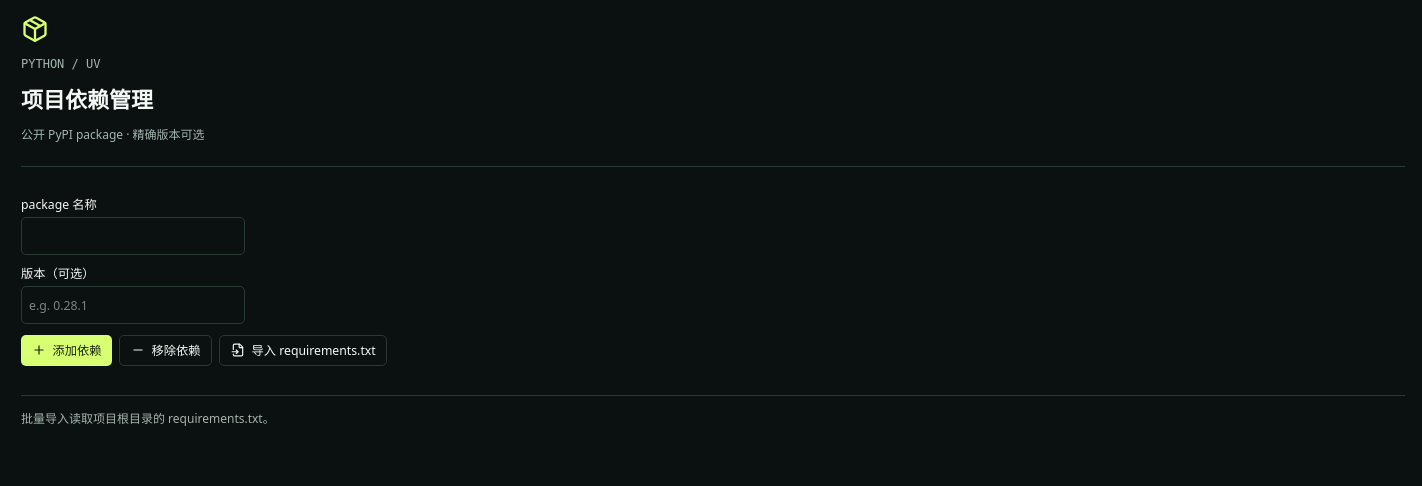
PythonDependenciesPanel rejected changes › answers PYTHON_DEPENDENCY_NO_WHEEL as a proven no-side-effect rejection with the fixed wheel message
Type "pywin32" into the field named "Package name" at [133, 236], box [21,216,245,254]
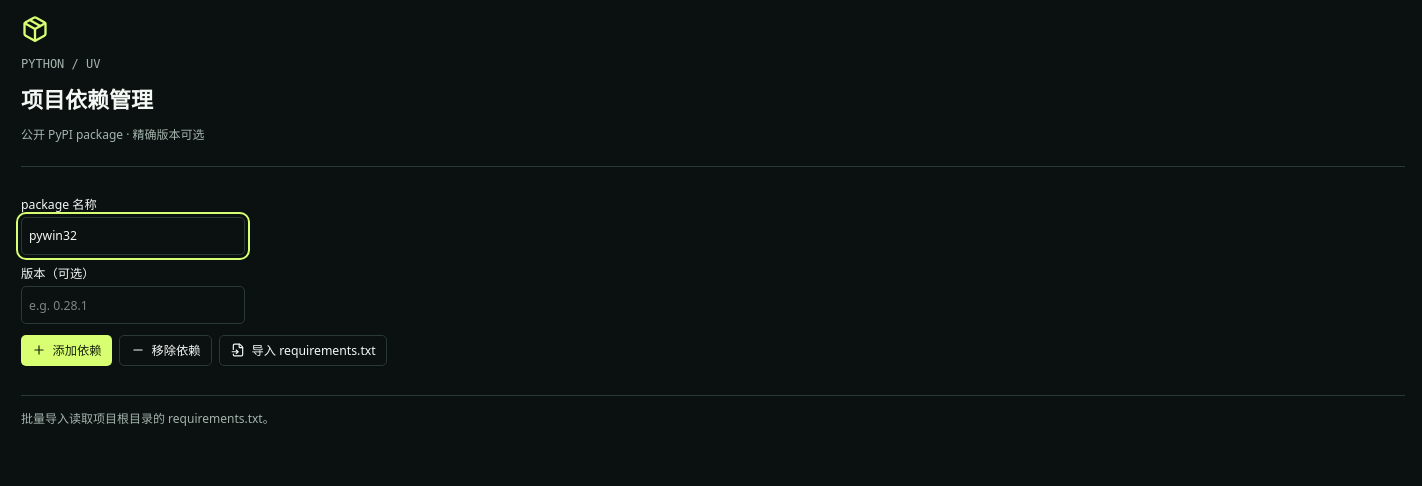
Type "312" into the field named "Version (optional)" at [133, 305], box [21,286,245,324]
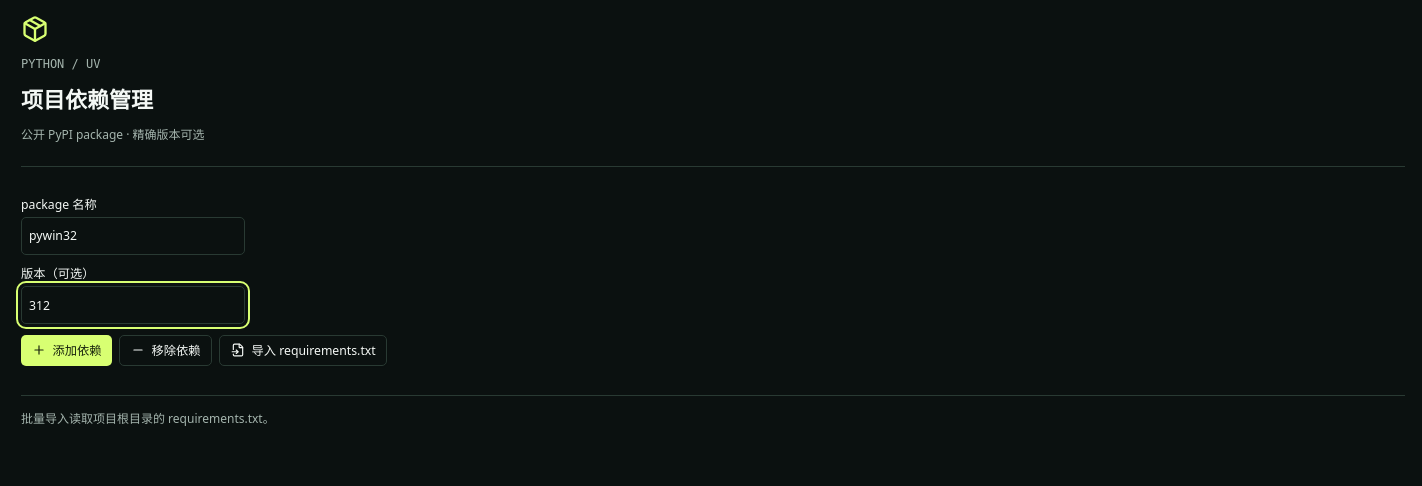
Click the button with aria-label "Add dependency" at [66, 350], box [21,334,112,366]
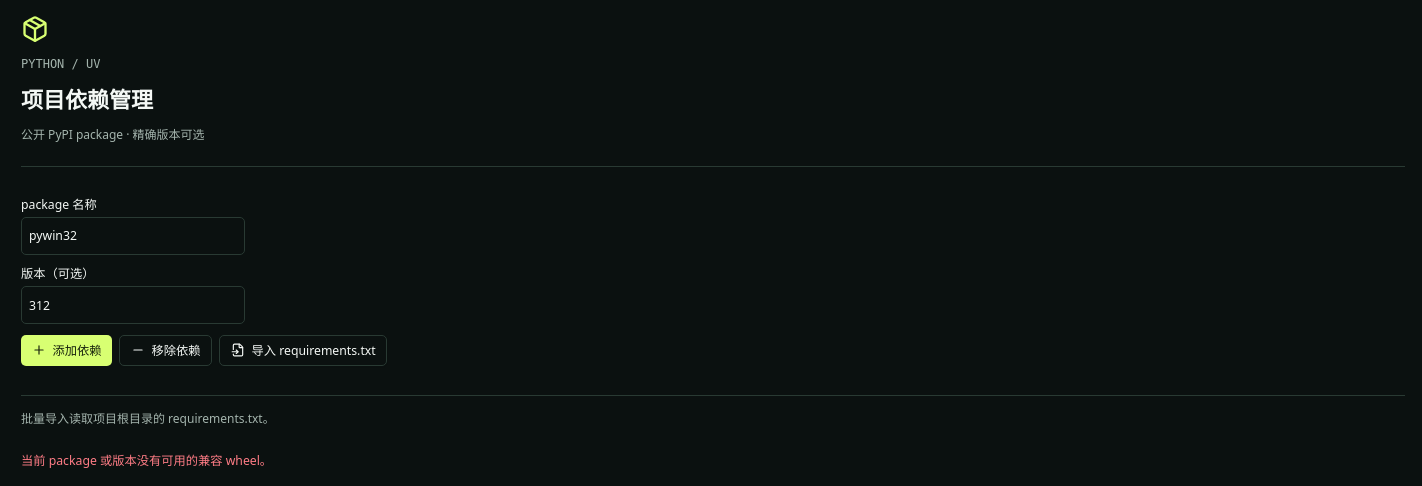
Check: the message "当前 package 或版本没有可用的兼容 wheel。" is shown, box [21,452,272,469]
